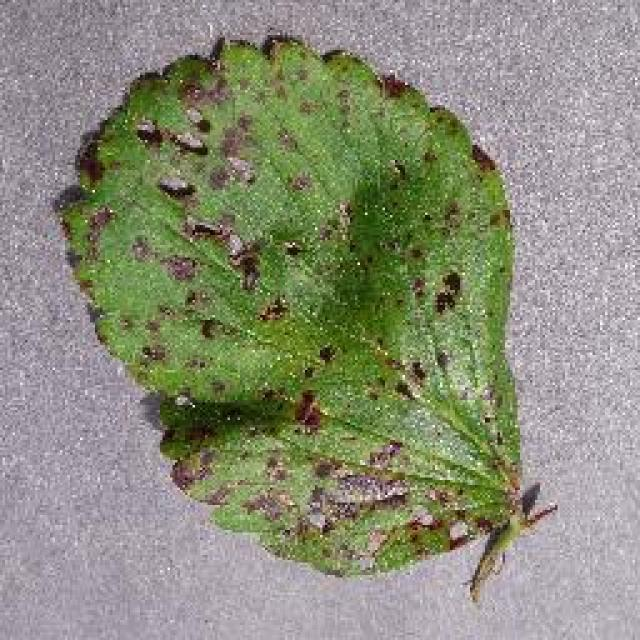Strawberry leaf scorch: (77, 41, 473, 556)
